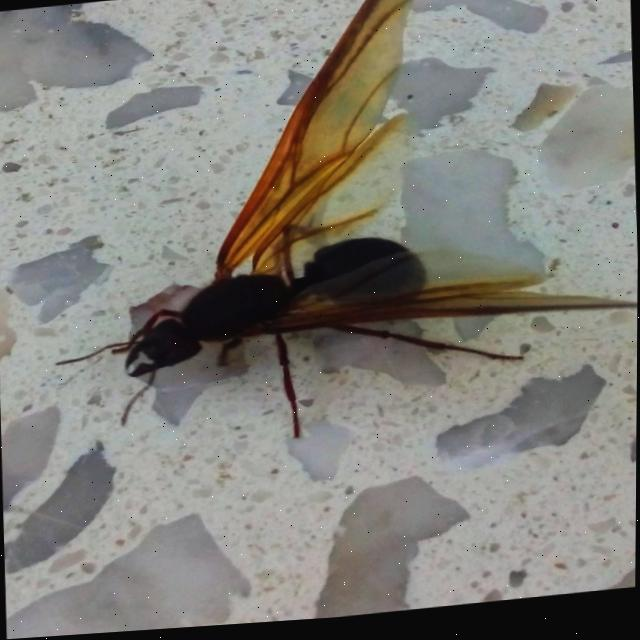Alive-Female-Alate: (40, 0, 640, 465)
